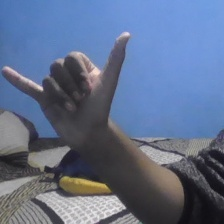Y: (1, 29, 135, 149)
